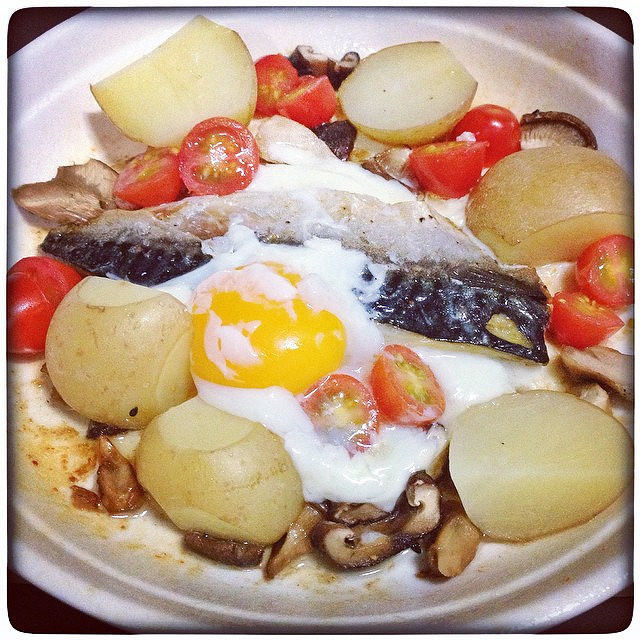boiled potatoes: (443, 392, 624, 518), (43, 278, 195, 423), (144, 411, 301, 541), (458, 149, 635, 256), (92, 18, 261, 130), (336, 43, 478, 141)
fried egg: (187, 266, 372, 402)
